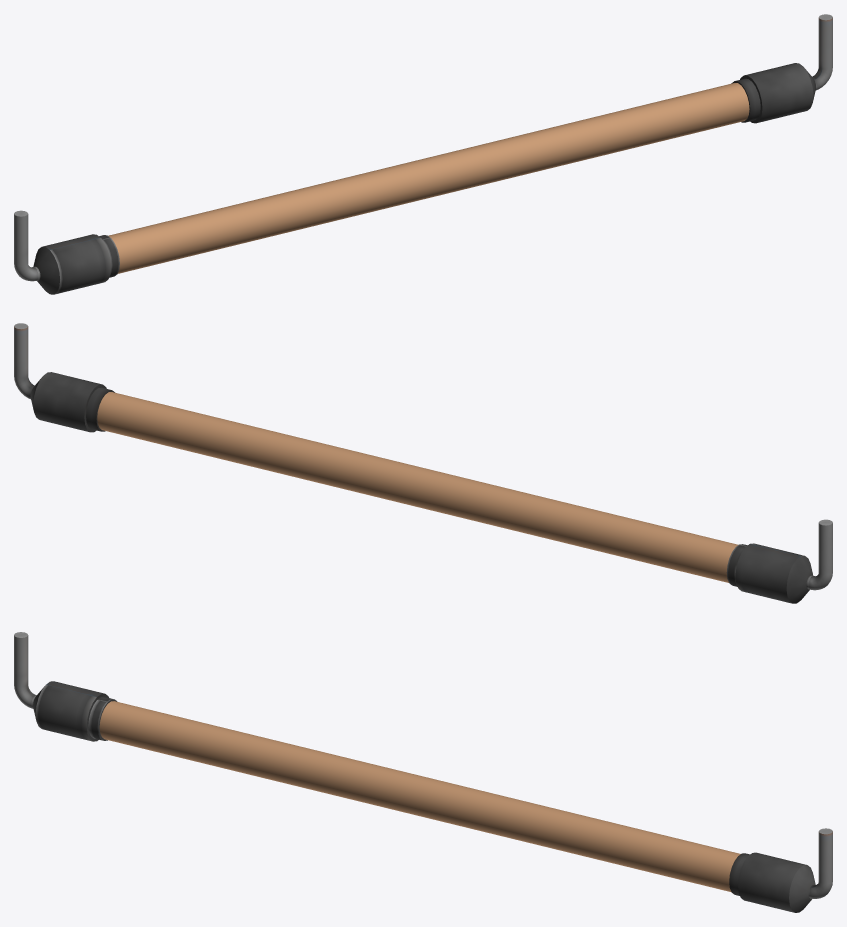
The model's file is SM_LampA02.fbx.
The picture shows the model from 3 angles, top to bottom: view 1: azimuth 30°, elevation 25°; view 2: azimuth 150°, elevation 25°; view 3: azimuth 330°, elevation 25°; orthographic projection.
Visible parts, largest first — view 1: SM_LampA02; view 2: SM_LampA02; view 3: SM_LampA02.
Boxes of the visible parts, <box> form: SM_LampA02: <box>14,14,832,294</box>; SM_LampA02: <box>14,323,832,603</box>; SM_LampA02: <box>14,632,832,912</box>.
Size of the model in its own units: 167 by 8.73 by 16.72.
